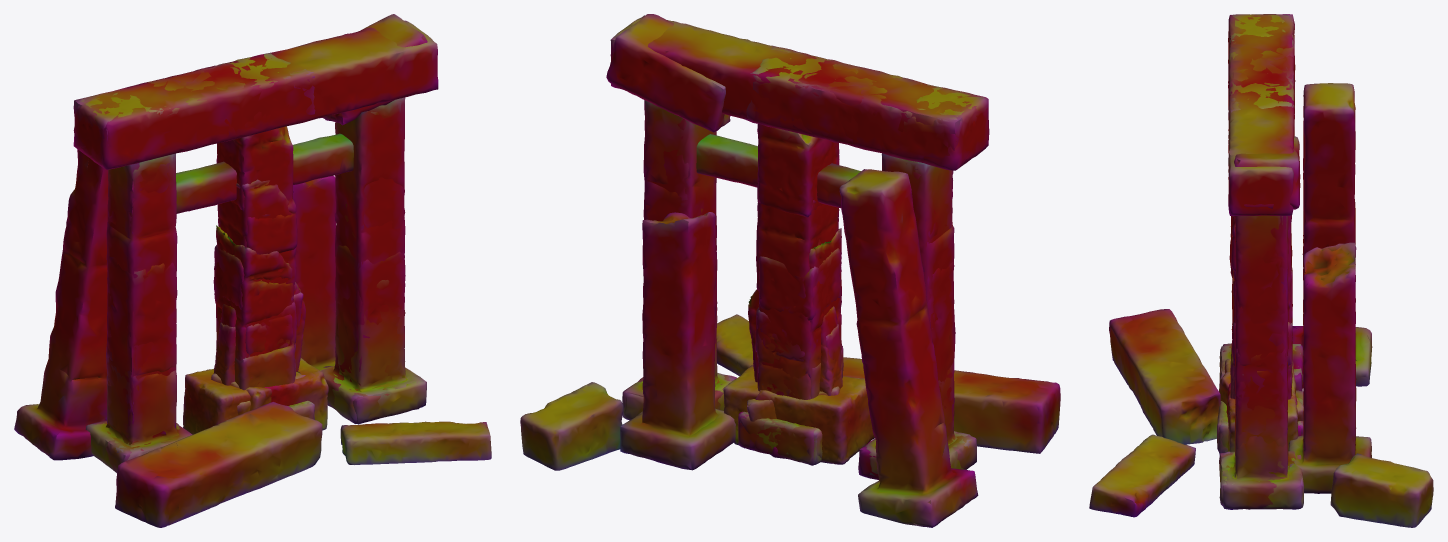
The model's file is ruins_kit.glb.
3 views of the same model, side by side, from view 1: azimuth 30°, elevation 25°; view 2: azimuth 150°, elevation 25°; view 3: azimuth 270°, elevation 25° (orthographic). The views are drawn at different scales.
Parts seen in each view (by area): view 1: Gate_A, Gate_C, Gate_B, Pillar_3, Pillar_1, Block_0, Pillar_2, Slab_2, Slab_1, Pillar_0, Block_1; view 2: Gate_C, Gate_B, Gate_A, Pillar_3, Pillar_2, Block_0, Pillar_1, Pillar_0, Slab_2, Block_1; view 3: Gate_C, Gate_A, Gate_B, Pillar_3, Block_0, Pillar_2, Pillar_1, Block_1.
Boxes of the visible parts, box(x1,y1,x2,y2) form: Gate_A: box(73, 20, 438, 472); Gate_C: box(14, 149, 491, 527); Gate_B: box(74, 14, 427, 472); Pillar_3: box(213, 126, 297, 390); Pillar_1: box(214, 225, 314, 411); Block_0: box(183, 358, 328, 434); Pillar_2: box(216, 179, 314, 419); Slab_2: box(213, 282, 305, 385); Slab_1: box(218, 292, 303, 370); Pillar_0: box(245, 323, 314, 419); Block_1: box(211, 373, 271, 410); Gate_C: box(520, 169, 1060, 527); Gate_B: box(606, 14, 988, 479); Gate_A: box(610, 15, 989, 475); Pillar_3: box(738, 124, 843, 464); Pillar_2: box(738, 184, 839, 465); Block_0: box(723, 365, 874, 464); Pillar_1: box(739, 228, 841, 458); Pillar_0: box(739, 310, 820, 464); Slab_2: box(748, 289, 842, 395); Block_1: box(747, 375, 843, 421); Gate_C: box(1089, 83, 1433, 527); Gate_A: box(1219, 14, 1302, 509); Gate_B: box(1219, 14, 1303, 509); Pillar_3: box(1219, 215, 1303, 455); Block_0: box(1224, 359, 1298, 451); Pillar_2: box(1217, 215, 1303, 451); Pillar_1: box(1220, 241, 1303, 451); Block_1: box(1219, 372, 1303, 421).
Size of the model in its own units: 5.01 by 4.65 by 4.1.
